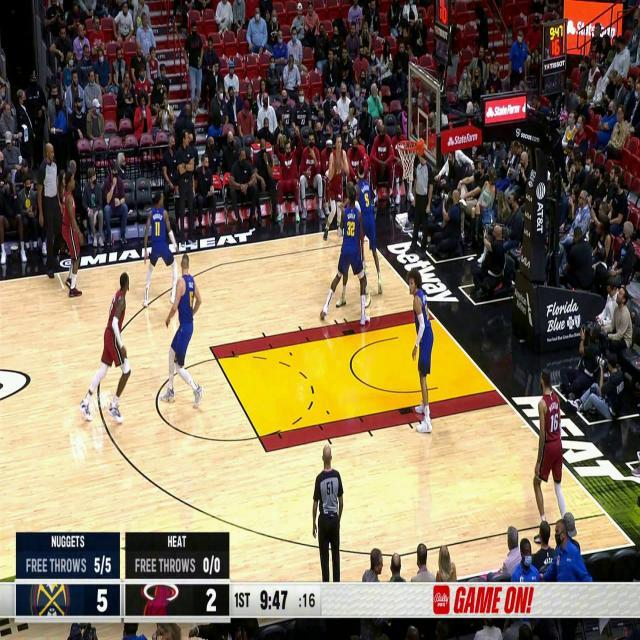rim: (333, 157, 343, 171)
